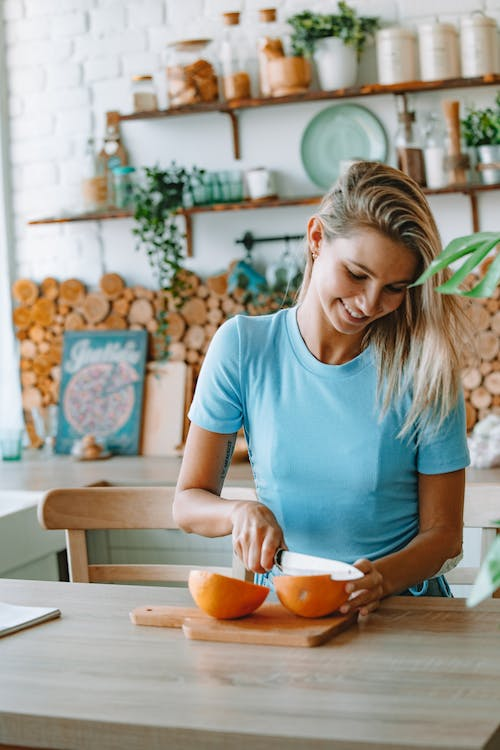knife: (274, 545, 367, 582)
